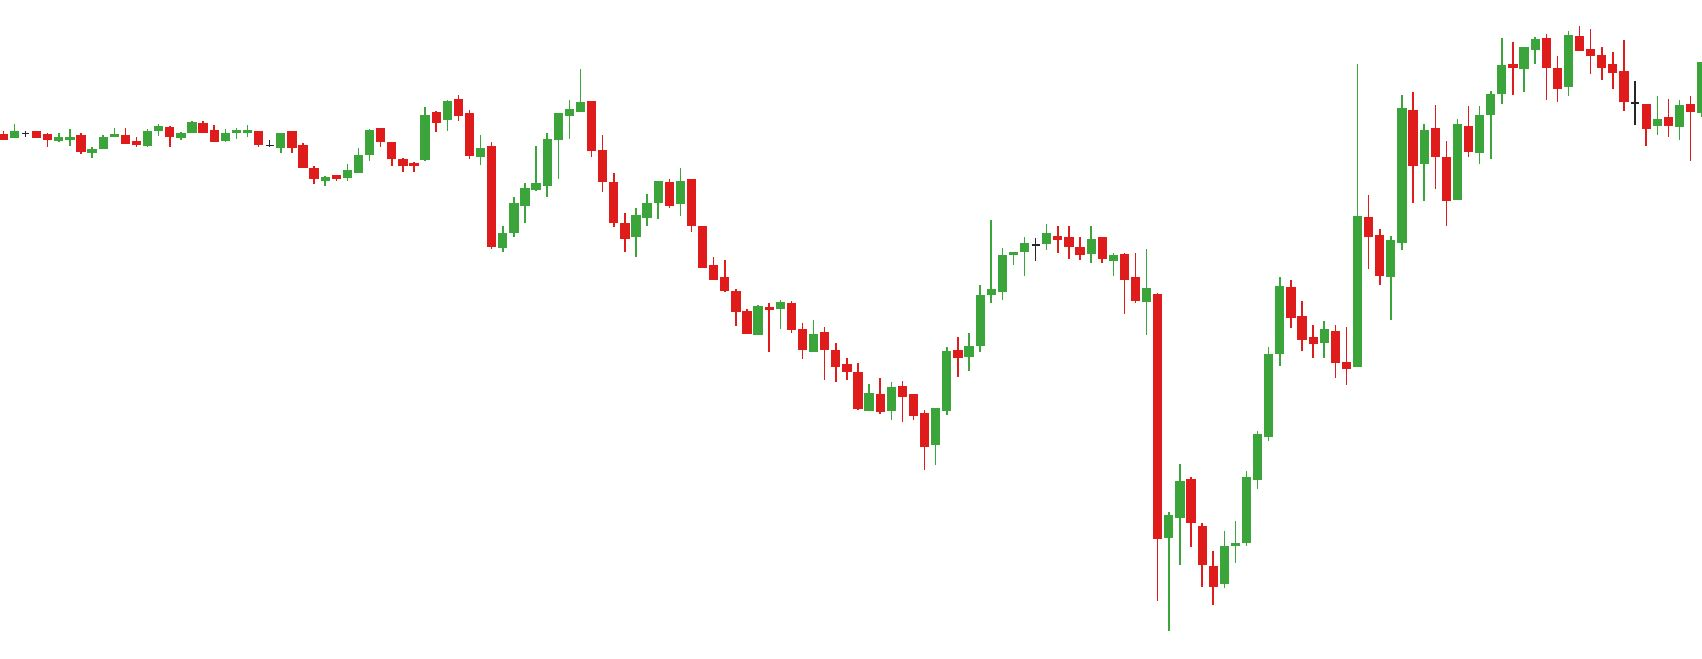sell: (454, 68, 586, 156)
